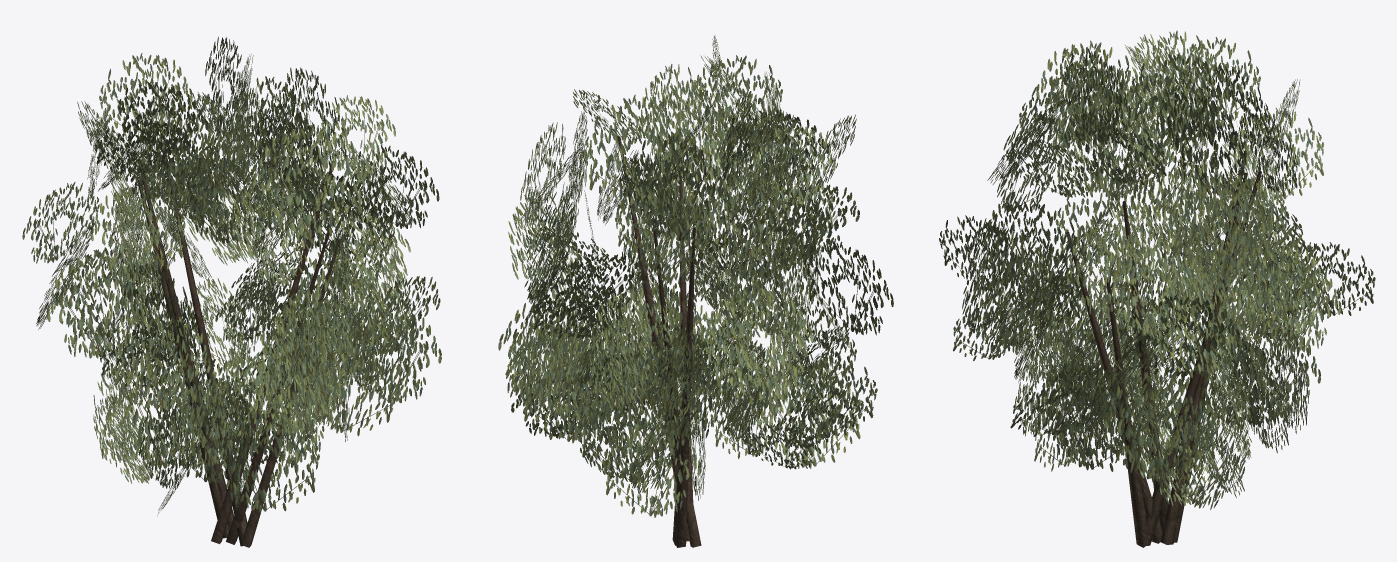
File: tpl_bog_osier.glb
3 views of the same model, side by side, from view 1: azimuth 30°, elevation 25°; view 2: azimuth 150°, elevation 25°; view 3: azimuth 270°, elevation 25° (orthographic). The views are drawn at different scales.
Parts seen in each view (by area): view 1: tpl_bog_osier; view 2: tpl_bog_osier; view 3: tpl_bog_osier.
Boxes of the visible parts, left/top/right/bottom form: tpl_bog_osier: left=22, top=36, right=441, bottom=547; tpl_bog_osier: left=498, top=35, right=893, bottom=547; tpl_bog_osier: left=939, top=30, right=1375, bottom=547.
Size of the model in its own units: 3.96 by 4.92 by 4.03.
Materials: 2 (2 with a texture image).
